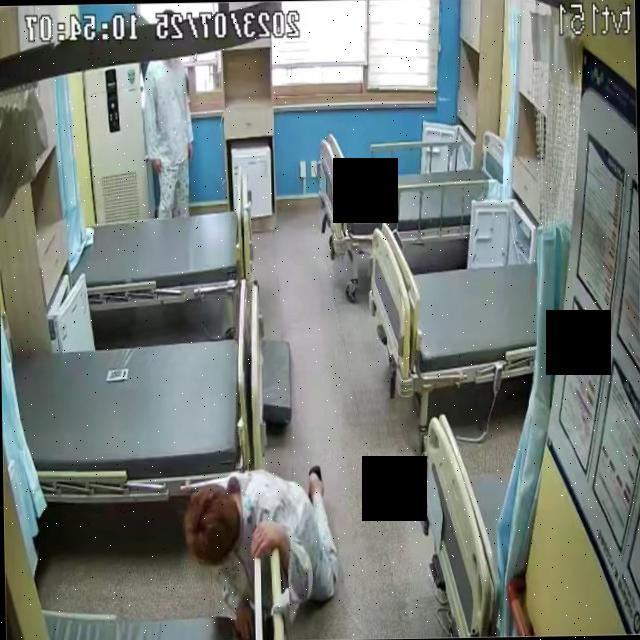bed: (9, 328, 246, 506), (364, 219, 540, 399), (316, 130, 504, 254), (68, 185, 251, 309)
danger: (181, 463, 339, 640)
patient: (181, 464, 339, 640)
